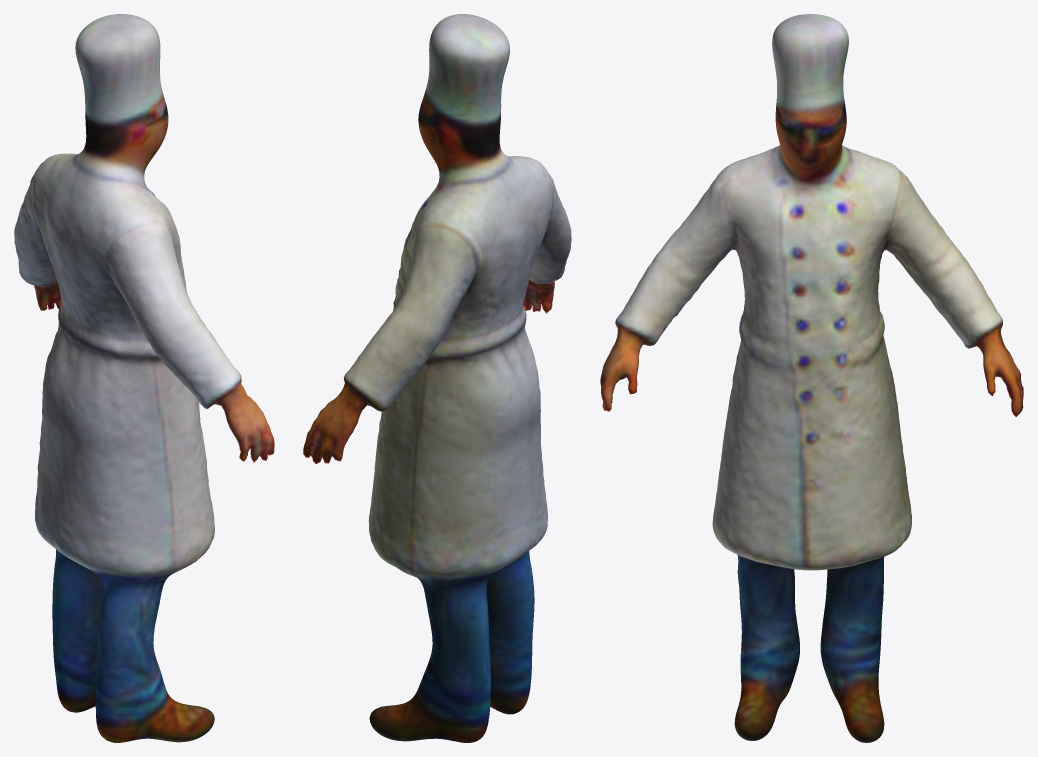
Rendered from Make_a_chef_3d_with_c_0731114945_preview.glb.
The picture shows the model from 3 angles, left to right: view 1: azimuth 30°, elevation 25°; view 2: azimuth 150°, elevation 25°; view 3: azimuth 270°, elevation 25°; orthographic projection.
Visible parts, largest first — view 1: Mesh1; view 2: Mesh1; view 3: Mesh1.
Boxes of the visible parts, x1,y1,x2,y2 form: Mesh1: (14,14,274,742); Mesh1: (303,14,571,742); Mesh1: (600,14,1023,742).
Size of the model in its own units: 0.2621 by 1.2 by 0.6588.
1 material, 1 textured.
